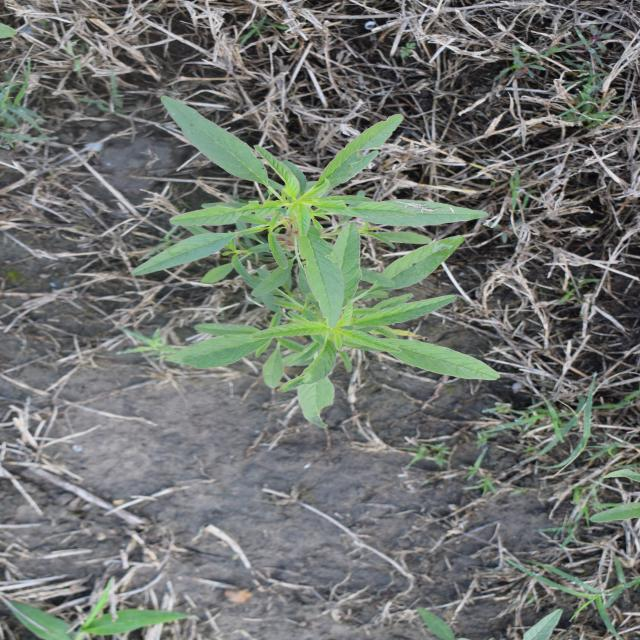Waterhemp: (128, 94, 503, 430)
